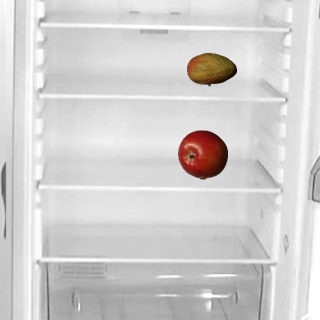Apple Braeburn: (177, 129, 227, 179)
Papaya: (186, 44, 236, 94)
